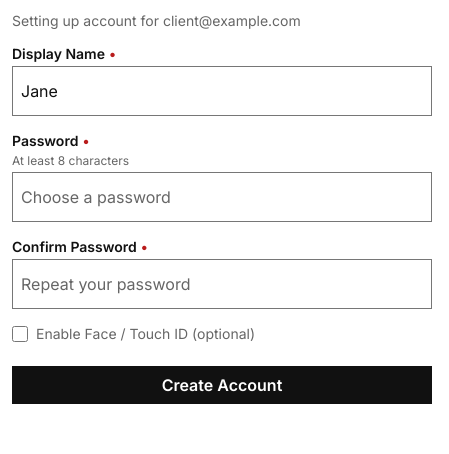
InviteForm › shows a mismatch error and does not submit when password !== confirm
Type "pw123456" into the password field with placeholder "Choose a password" at (222, 197), box 12,172 -> 432,222
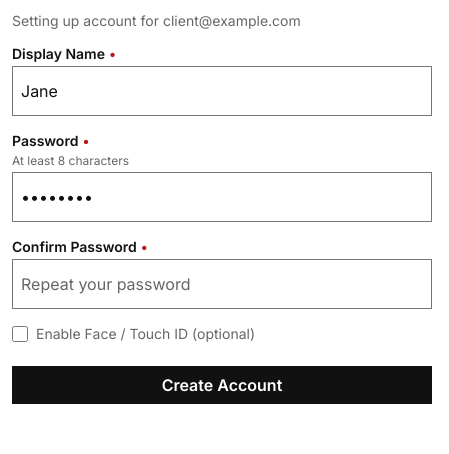
Type "different" into the password field with placeholder "Repeat your password" at (222, 284), box 12,259 -> 432,309
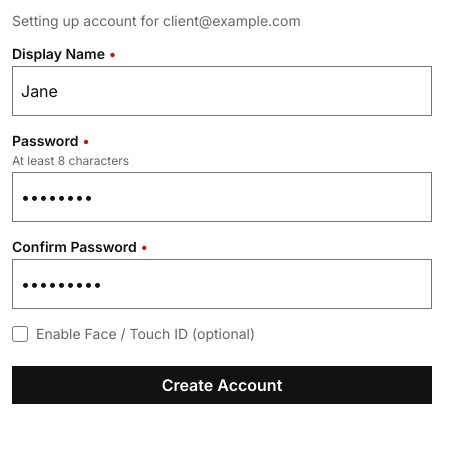
Click the button "Create Account" at (222, 385), box 12,366 -> 432,404
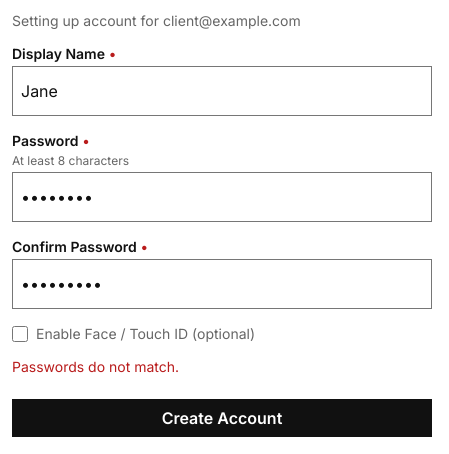
Expected: the message shows "Passwords do not match", 12,358 -> 179,375
